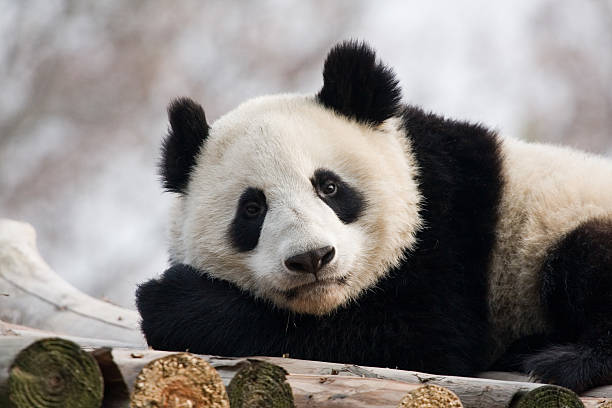panda: (143, 19, 481, 328)
